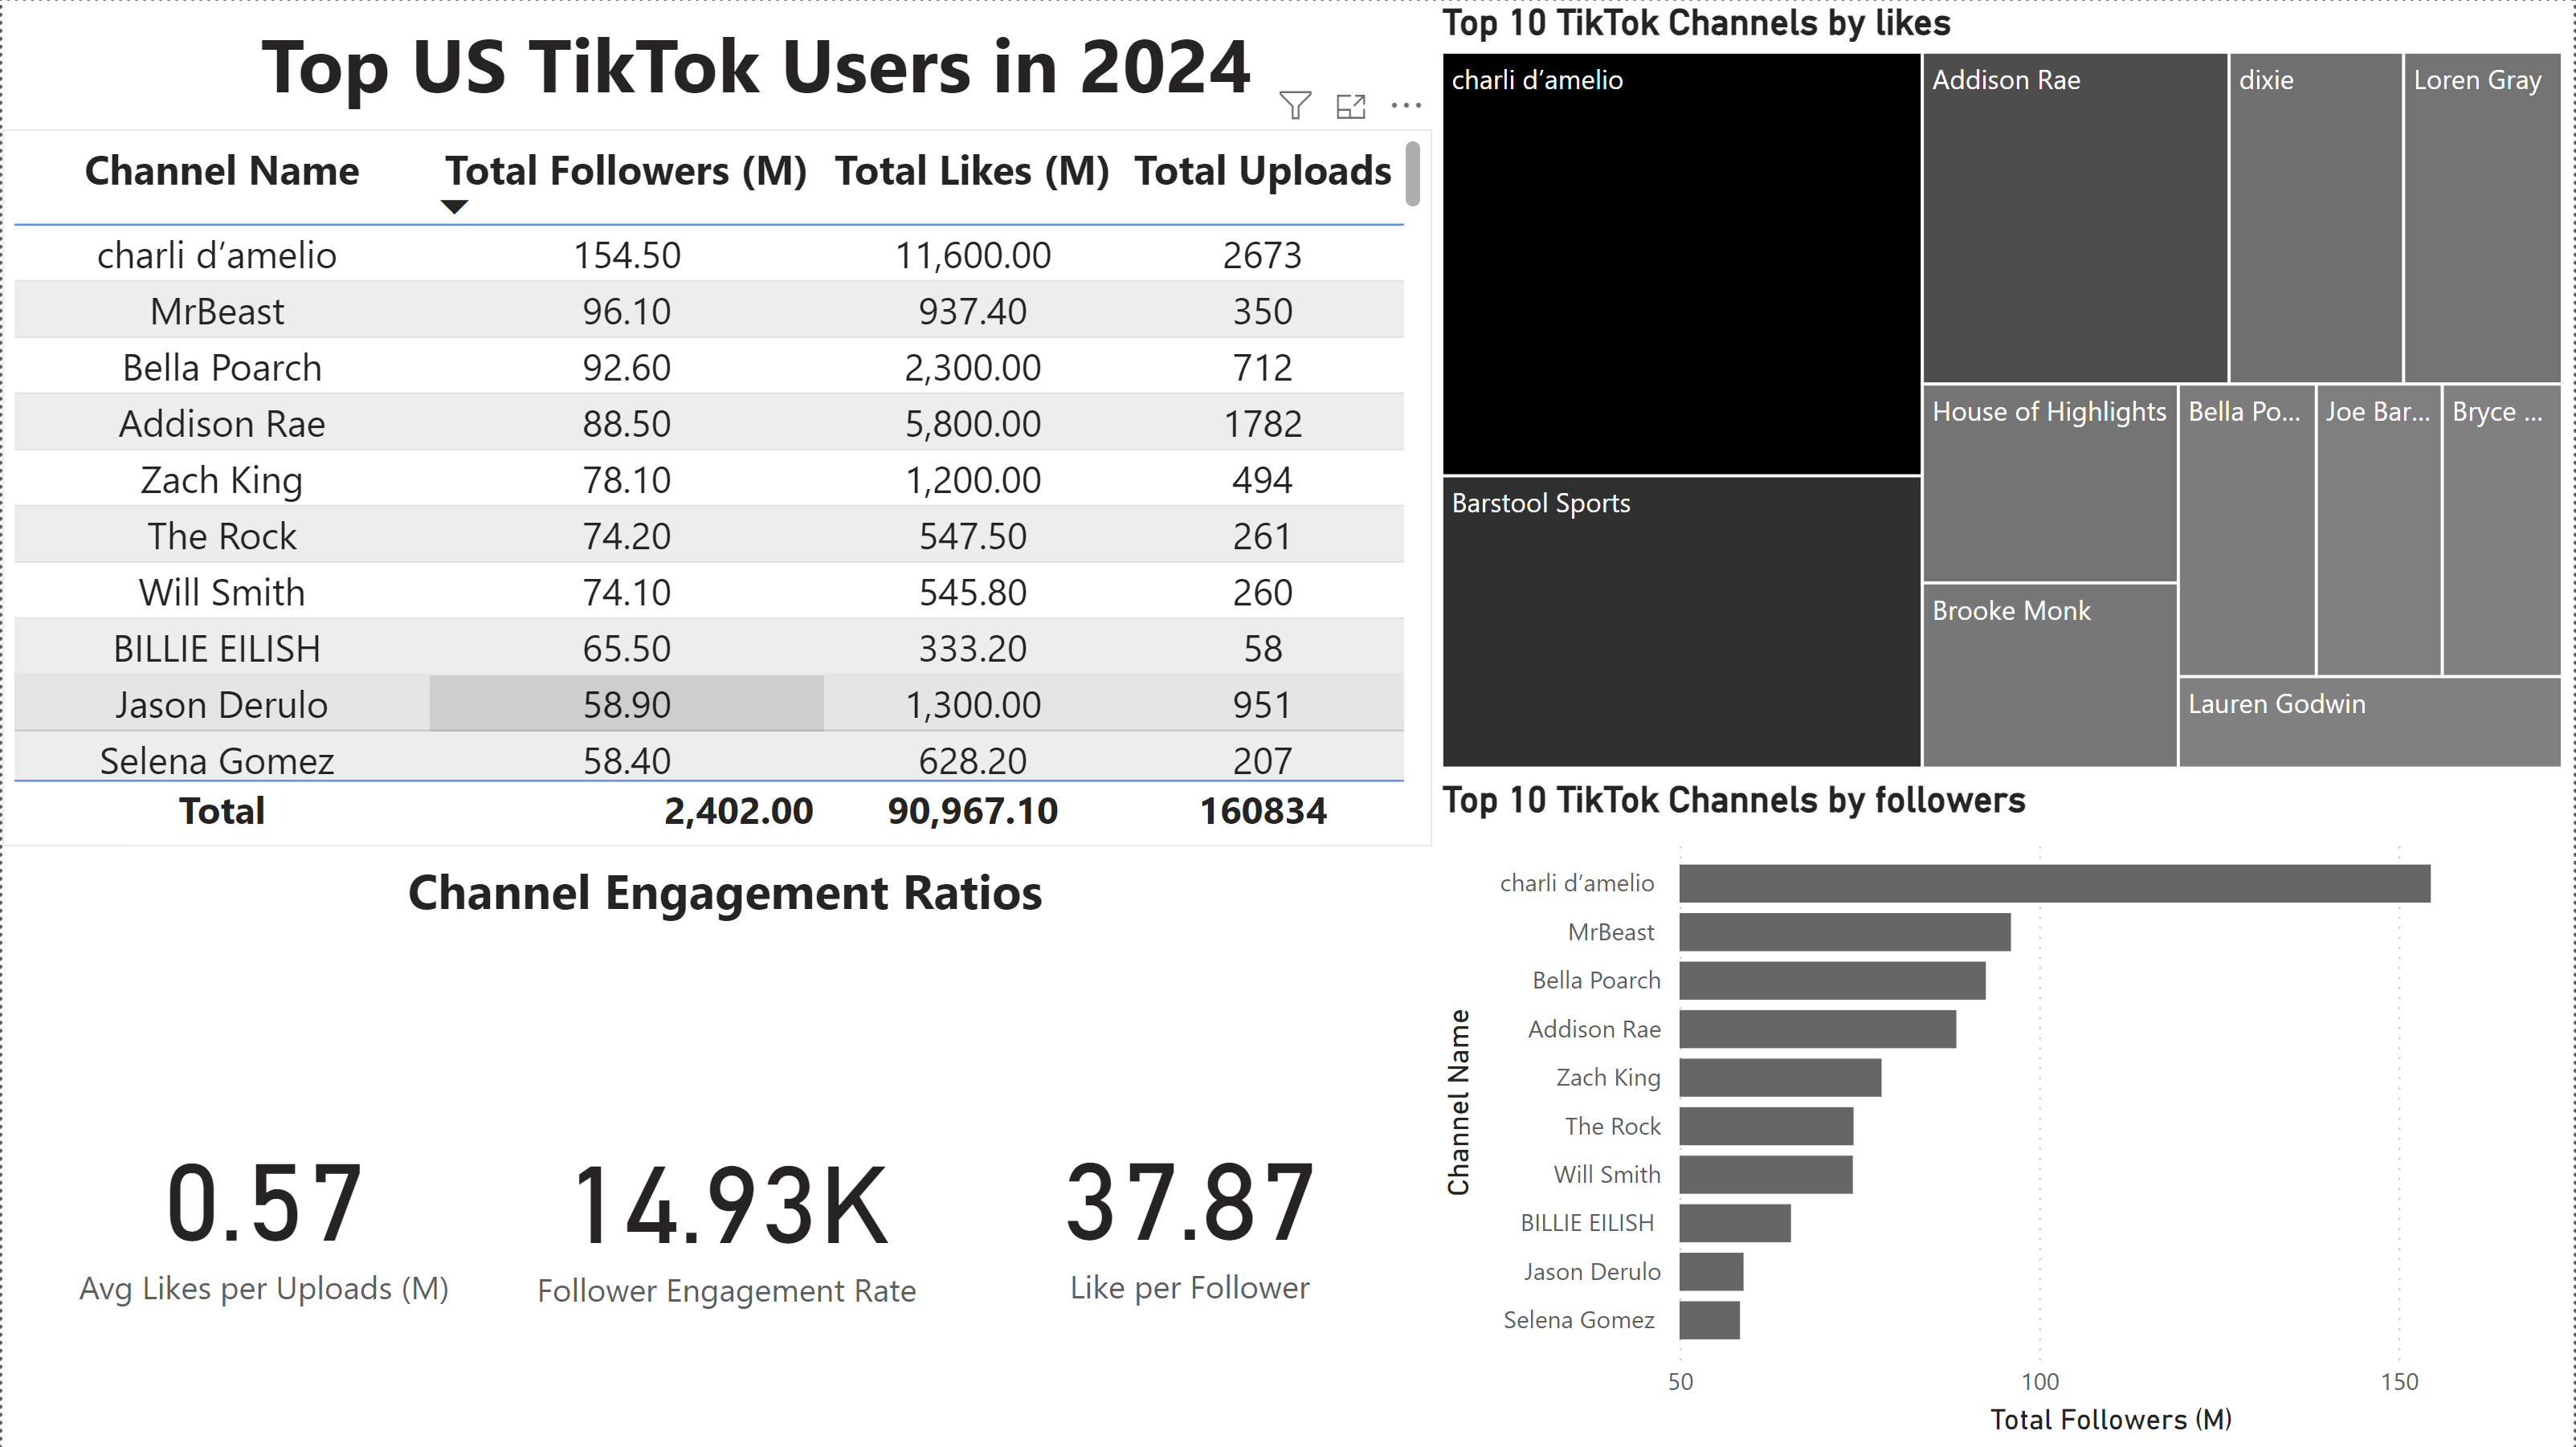

The page's visual inventory and layout, read from the dashboard file:
{"tool":"powerbi","page":{"name":"Page 1","canvas":[1280,720],"ordinal":0},"visuals":[{"type":"textbox","box":[0,0,750.6,71.4],"z":0},{"type":"card","fields":{"Values":["view_us_tiktok_users_2024.Avg Likes per Uploads (M)"]},"box":[15.1,484.4,230.5,236],"z":1000},{"type":"treemap","title":"Top 10 TikTok Channels by likes","fields":{"Group":["view_us_tiktok_users_2024.Channel Name"],"Values":["view_us_tiktok_users_2024.Total Likes (M)"]},"box":[712.2,0,568.1,387],"z":2000},{"type":"tableEx","fields":{"Values":["view_us_tiktok_users_2024.CHANNEL_NAME","view_us_tiktok_users_2024.Total Followers (M)","view_us_tiktok_users_2024.Total Likes (M)","view_us_tiktok_users_2024.Total Uploads"]},"box":[0,64.5,712.2,356.8],"z":3000},{"type":"card","fields":{"Values":["view_us_tiktok_users_2024.Follower Engagement Rate"]},"box":[245.6,485.8,230.5,234.6],"z":4000},{"type":"card","fields":{"Values":["view_us_tiktok_users_2024.Like per Follower"]},"box":[476.2,484.4,230.5,234.6],"z":5000},{"type":"clusteredBarChart","title":"Top 10 TikTok Channels by followers","fields":{"Category":["view_us_tiktok_users_2024.Channel Name"],"Y":["view_us_tiktok_users_2024.Total Followers (M)"]},"box":[711.8,386.9,567.8,332.2],"z":6000},{"type":"textbox","box":[63.1,421.3,594.2,53.5],"z":7000}]}

Visuals, with their boxes in screenshot pixels (x1, y1, x2, y2), scaled from the page's 1280x720 canvas onto the 2576x1447 screenshot:
textbox: 0:0:1511:144
card - view_us_tiktok_users_2024.Avg Likes per Uploads (M): 31:973:494:1446
"Top 10 TikTok Channels by likes" treemap: 1433:0:2575:778
tableEx - view_us_tiktok_users_2024.CHANNEL_NAME x view_us_tiktok_users_2024.Total Followers (M): 0:129:1433:846
card - view_us_tiktok_users_2024.Follower Engagement Rate: 494:976:958:1446
card - view_us_tiktok_users_2024.Like per Follower: 958:973:1423:1445
"Top 10 TikTok Channels by followers" clusteredBarChart: 1432:777:2575:1445
textbox: 127:846:1323:954
